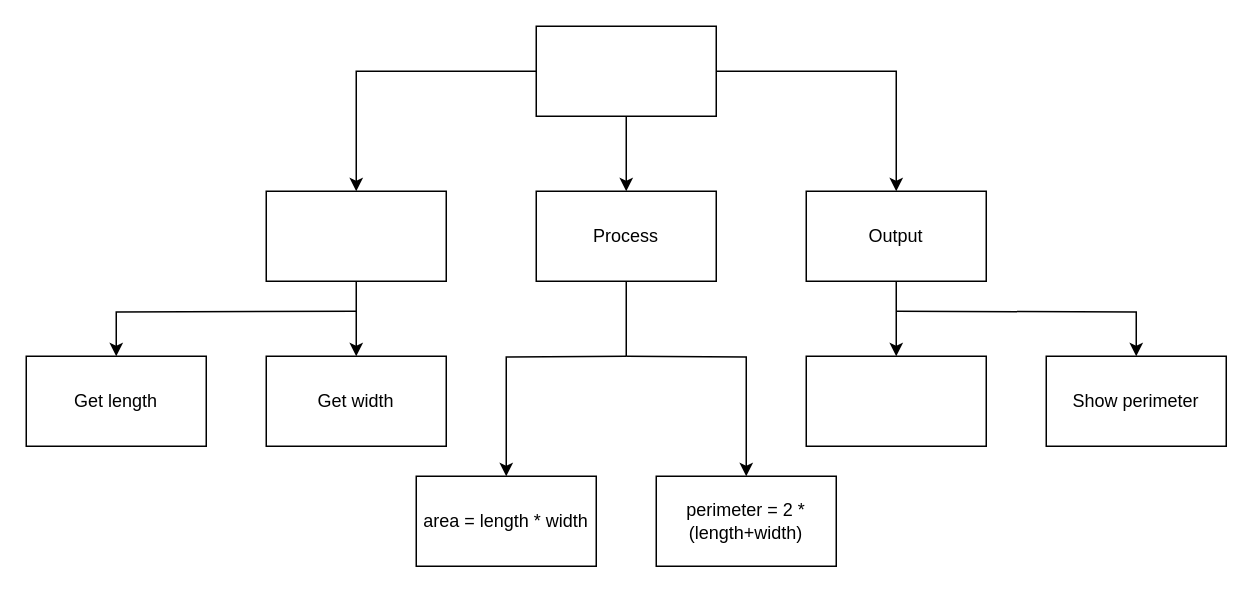
The diagram is 1253 pixels wide and 593 high, and some of its shapes have lost their labels. The centre of each missing label's shape, as x and y in pixels:
Dimensions of a Rectangle: the point at 625,70
Input: the point at 355,235
Show area: the point at 895,400
